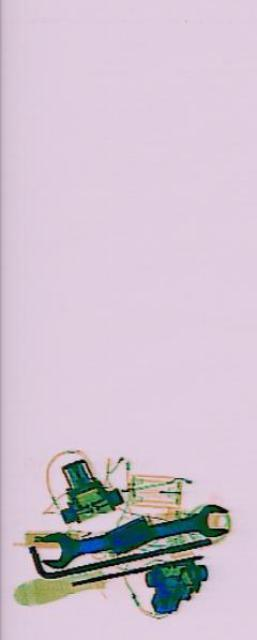Wrench: (38, 500, 227, 570)
